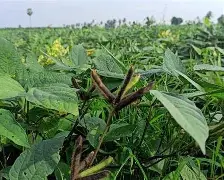crops: (0, 21, 220, 178), (96, 23, 221, 51), (41, 42, 127, 80), (133, 118, 189, 175), (155, 45, 218, 95), (1, 27, 72, 45), (68, 24, 113, 45)
